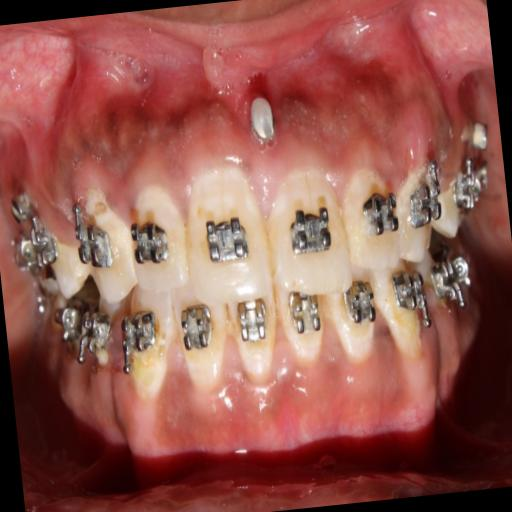correct_brace: (198, 206, 255, 274), (280, 200, 338, 261), (354, 190, 405, 244), (129, 215, 174, 268)
incorrect_brace: (338, 157, 410, 277), (123, 176, 191, 298)
